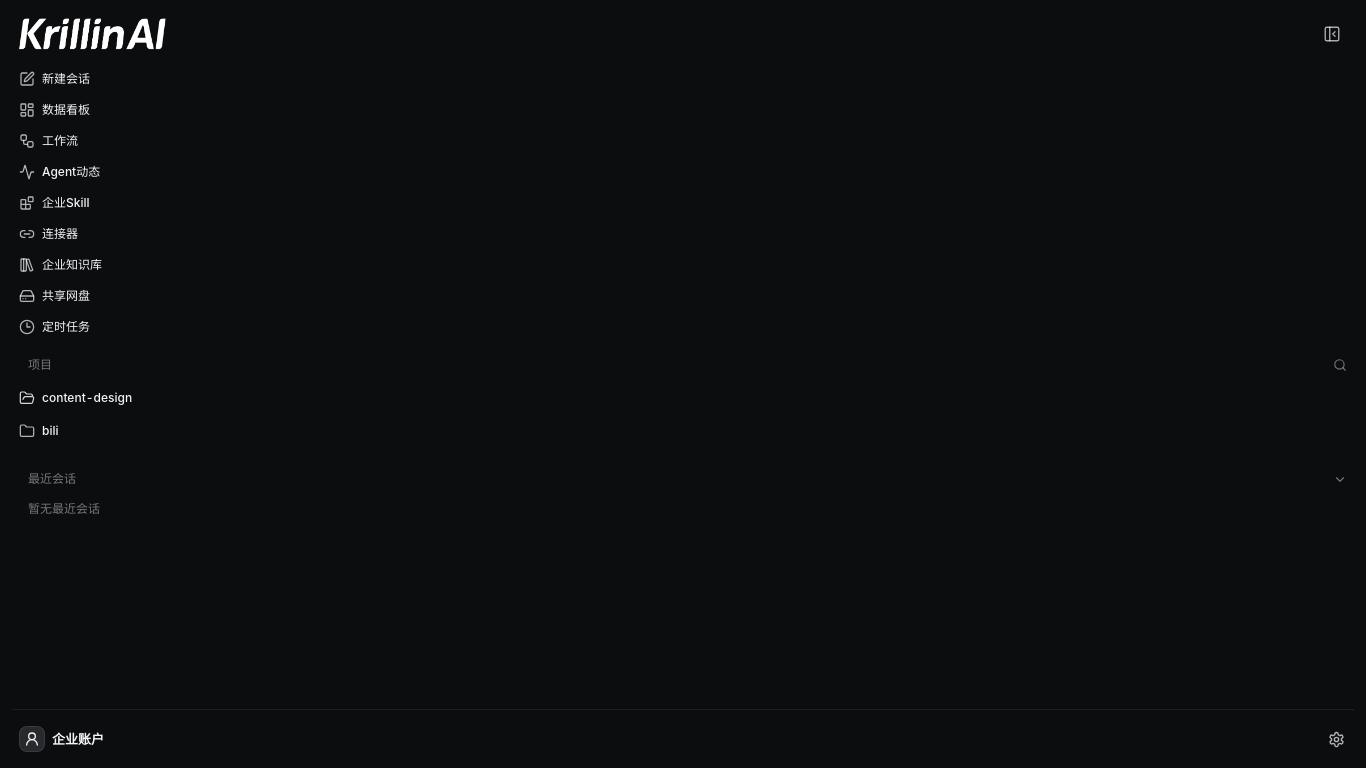
Test: ClaweeSidebar › hides the recent conversation empty state when the section is collapsed
Expected: the text "暂无最近会话" is shown, [28,501,100,516]
Click the button named "收起最近会话" at (1340, 479), box [1326,465,1354,493]
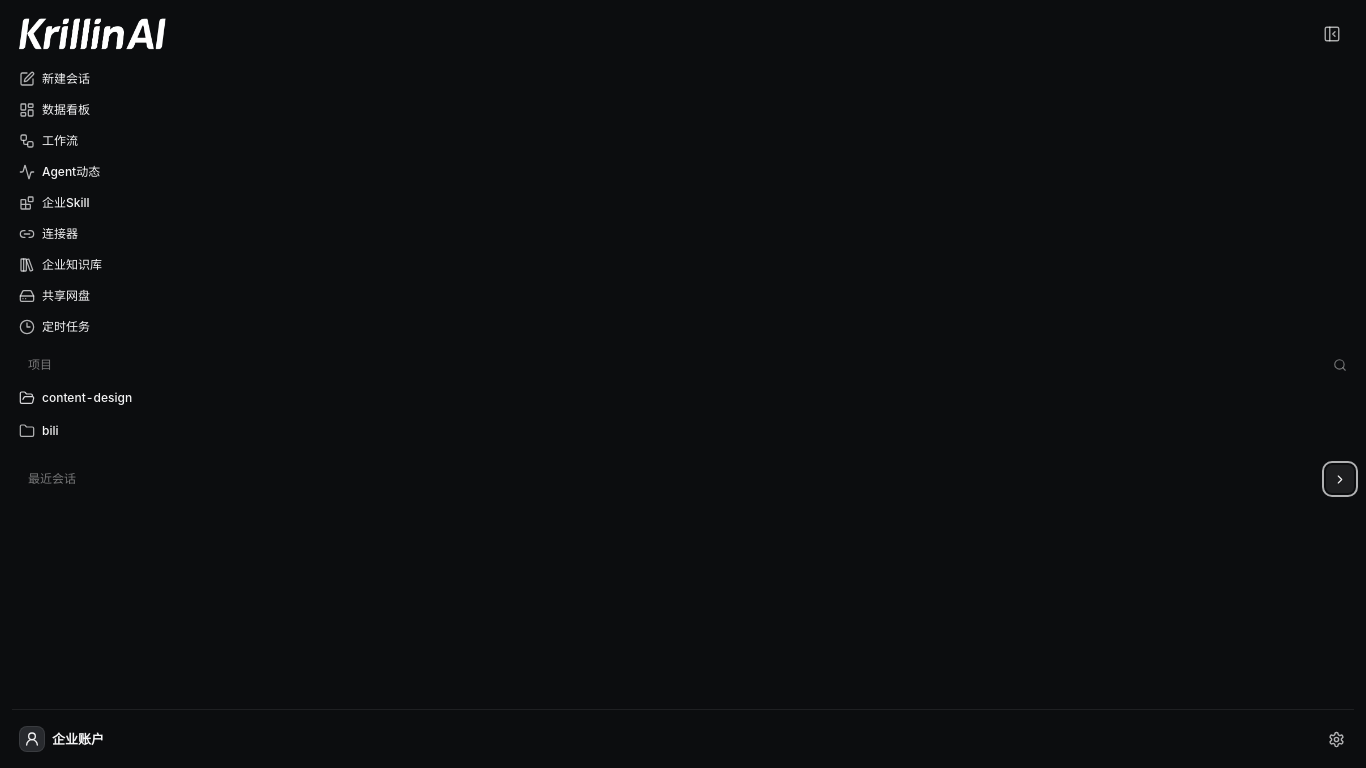
Now the text "暂无最近会话" is gone
